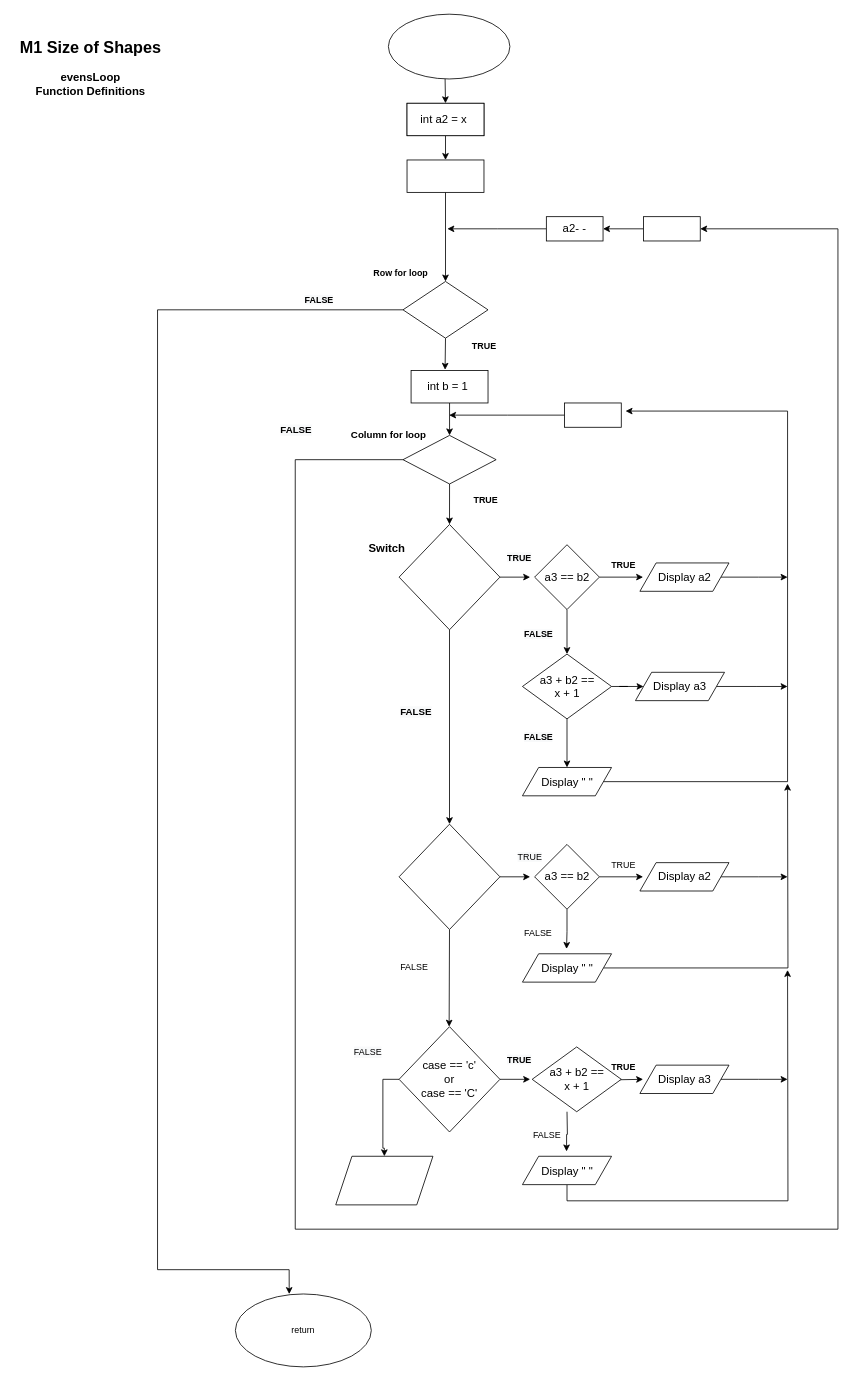
Image size: 859x1381. Some labels were removed from this diagram. The box of each missing label's shape, as (x1, y1, x2, y2) in pixels:
a2 >= 1: (402, 281, 488, 338)
a3++: (643, 216, 700, 241)
b <= x: (402, 435, 496, 484)
b++: (564, 402, 621, 427)
case == 'b' or case == 'B': (398, 823, 500, 929)
case == 'x' or case == 'X': (398, 524, 500, 630)
Display "Error in oddLoop() default": (335, 1155, 433, 1205)
int a3 = 1: (406, 159, 484, 192)
void evensLoop(x, shape);: (388, 13, 510, 79)
